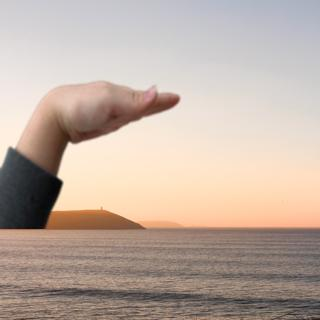Wait: (14, 73, 186, 167)
